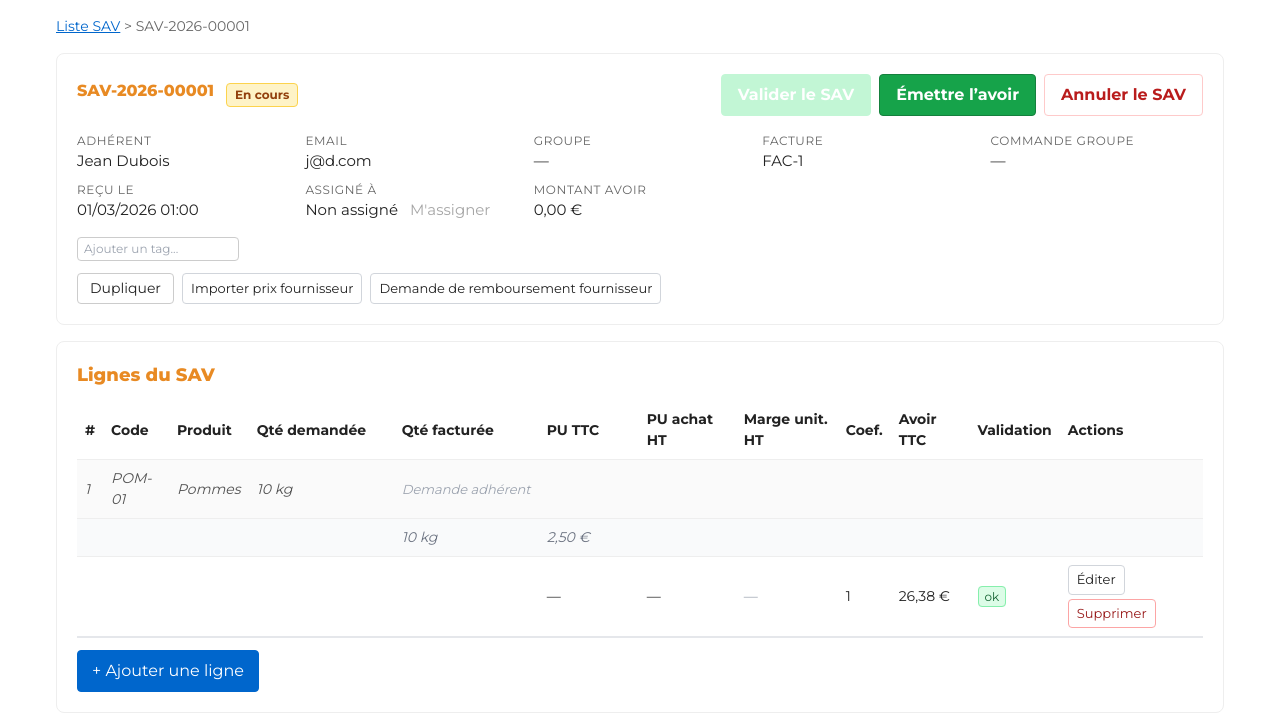
SavDetailView — édition inline lignes (Story 3.6b) › TC-08 : 409 VERSION_CONFLICT au save ligne → toast + refresh auto
Click the button with test id "edit-line-100": click(1096, 580) [1068, 565, 1125, 594]
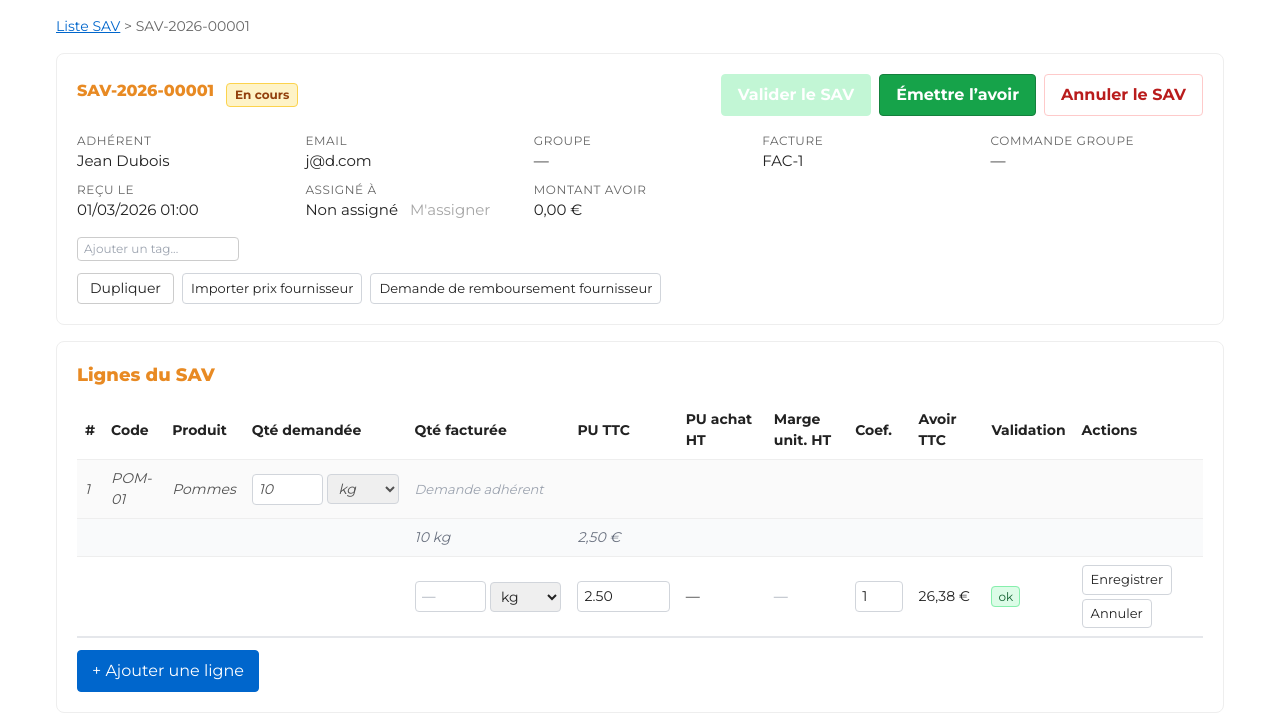
Replace the text in the number field with test id "edit-qty-requested-100" with "15": (288, 489) [252, 474, 323, 504]
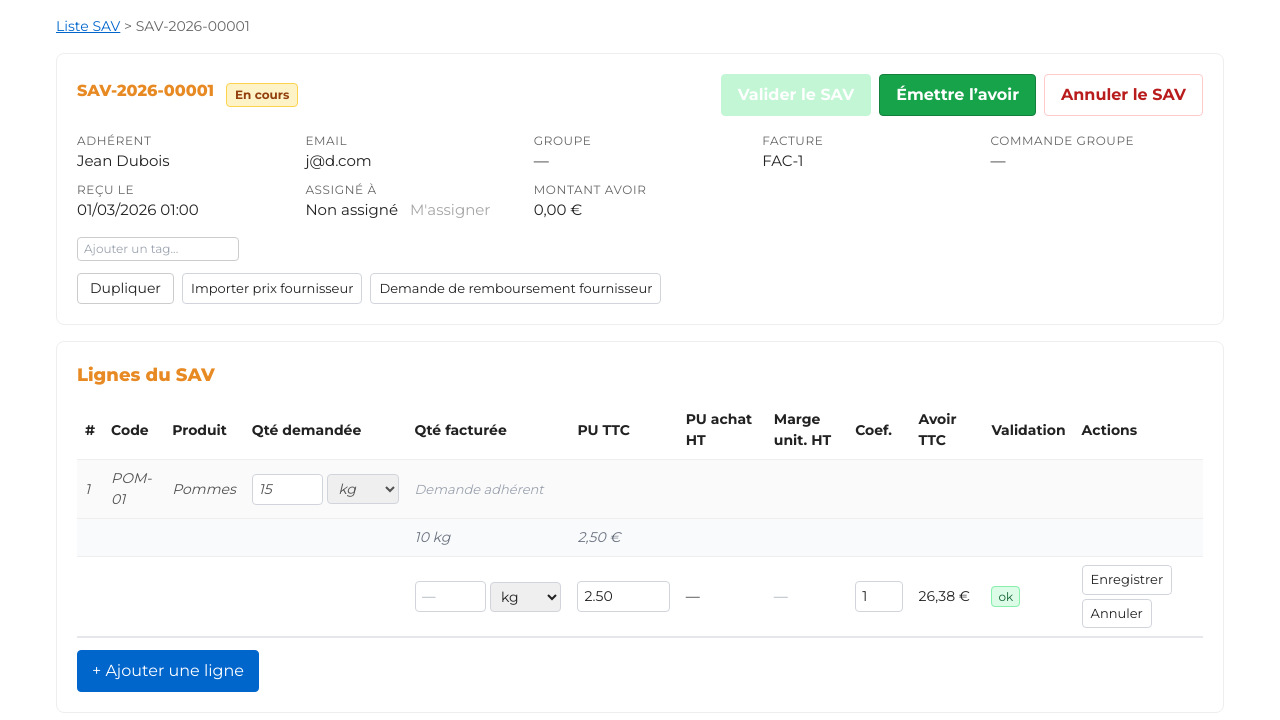
Press Enter in the number field with test id "edit-qty-requested-100", box [252, 474, 323, 504]
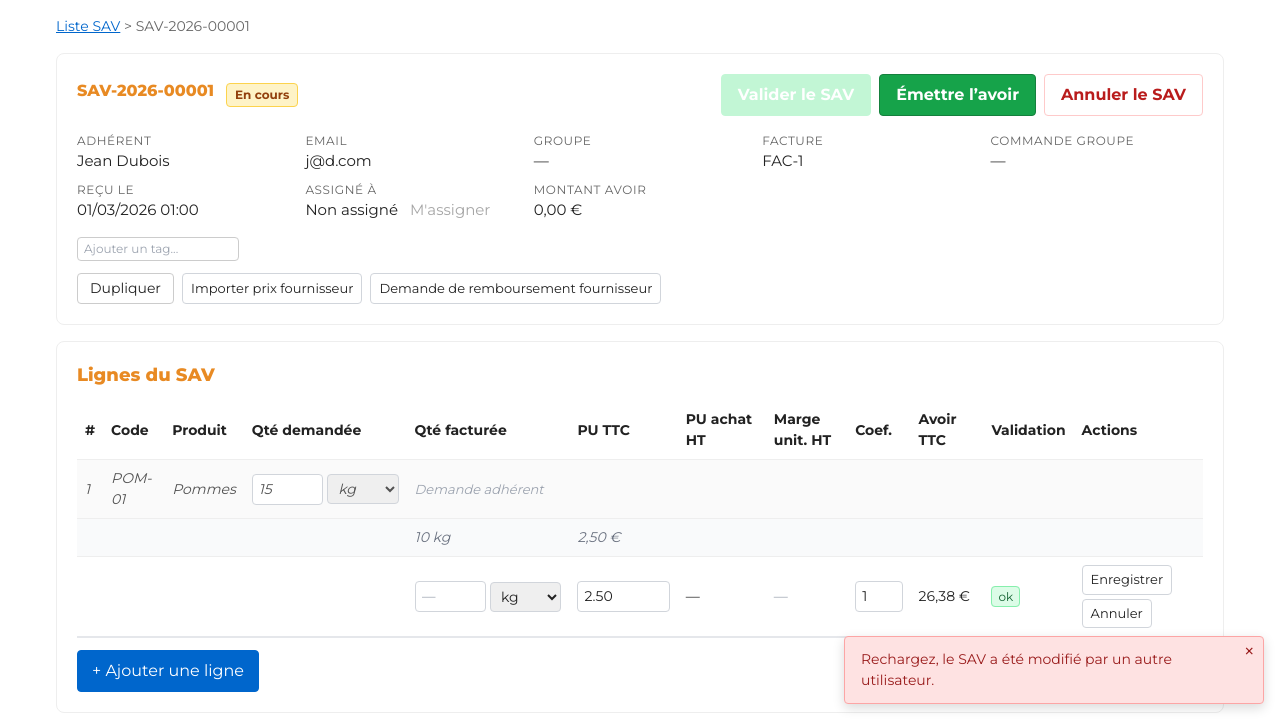
Expected: the message "Rechargez, le SAV a été modifié par un autre utilisateur. ×" is shown, [844, 636, 1264, 704]
Expected: the message with test id "sav-toast" shows "Rechargez", [861, 650, 1172, 689]
